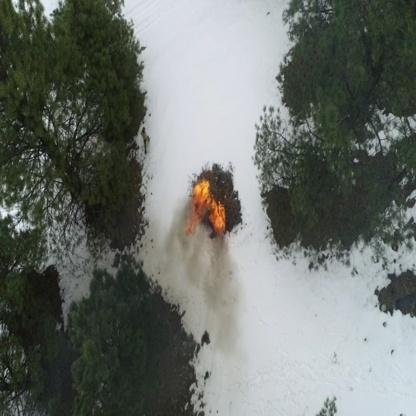Fire: (206, 195, 227, 237), (194, 180, 210, 214), (188, 215, 200, 232)
